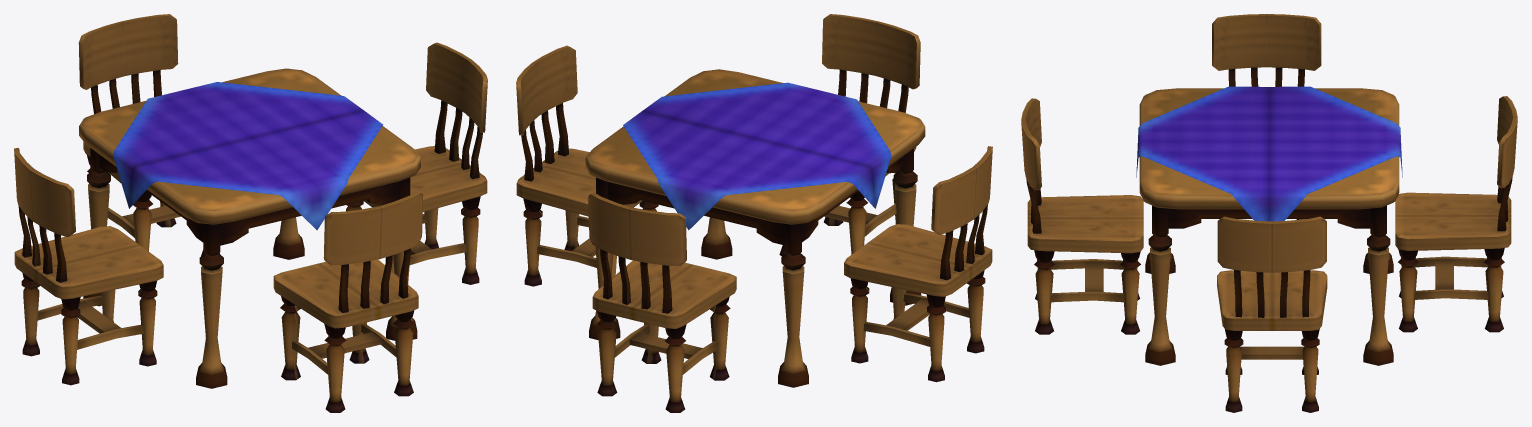
File: Kitchen_Table_02.gltf
3 views of the same model, side by side, from view 1: azimuth 30°, elevation 25°; view 2: azimuth 150°, elevation 25°; view 3: azimuth 270°, elevation 25° (orthographic). The views are drawn at different scales.
Parts seen in each view (by area): view 1: Kitchen_Table_02; view 2: Kitchen_Table_02; view 3: Kitchen_Table_02.
Part boxes in pixels (x1,y1,x2,y2): Kitchen_Table_02: (14,14,487,412); Kitchen_Table_02: (516,14,992,412); Kitchen_Table_02: (1021,14,1517,412).
Size of the model in its own units: 78.78 by 34.33 by 78.78.
1 material, 1 textured.
